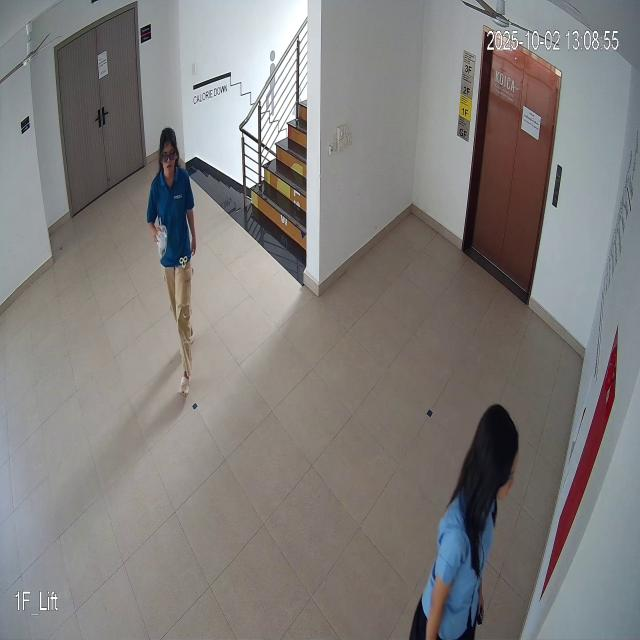face: (154, 118, 178, 178)
